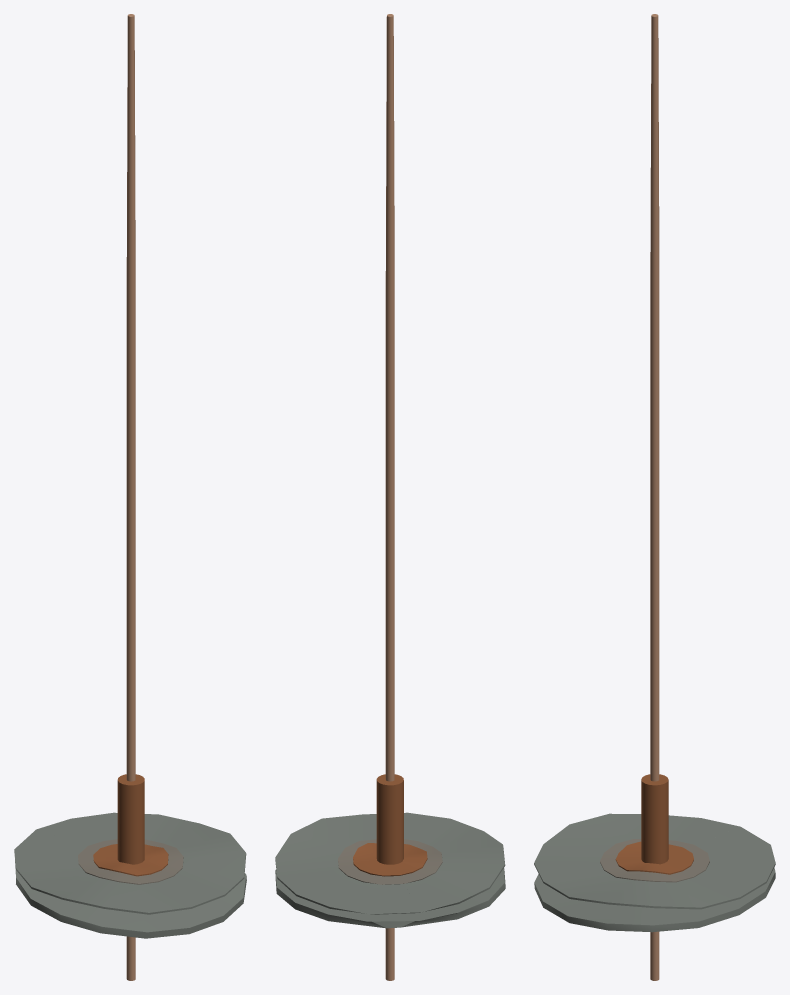
The model's file is fuseau.fbx.
3 renders of one model, left to right at view 1: azimuth 30°, elevation 25°; view 2: azimuth 150°, elevation 25°; view 3: azimuth 270°, elevation 25°, orthographic.
Parts seen in each view (by area): view 1: Disc_2_2, Cylinder_2, Disc, Cylinder, Disc_1, Disc_2; view 2: Disc_2_2, Cylinder_2, Disc, Cylinder, Disc_1, Disc_2; view 3: Disc_2_2, Cylinder_2, Disc, Cylinder, Disc_1, Disc_2.
Boxes of the visible parts, left/top/right/bottom form: Disc_2_2: left=14, top=812, right=246, bottom=914; Cylinder_2: left=126, top=14, right=135, bottom=980; Disc: left=15, top=860, right=246, bottom=938; Cylinder: left=117, top=774, right=144, bottom=864; Disc_1: left=78, top=839, right=183, bottom=884; Disc_2: left=93, top=844, right=168, bottom=876; Disc_2_2: left=275, top=812, right=505, bottom=914; Cylinder_2: left=385, top=14, right=394, bottom=980; Disc: left=275, top=868, right=505, bottom=928; Cylinder: left=376, top=774, right=403, bottom=864; Disc_1: left=338, top=839, right=442, bottom=884; Disc_2: left=353, top=843, right=427, bottom=876; Disc_2_2: left=534, top=813, right=775, bottom=909; Cylinder_2: left=650, top=14, right=659, bottom=980; Disc: left=534, top=867, right=775, bottom=932; Cylinder: left=641, top=774, right=668, bottom=864; Disc_1: left=600, top=839, right=709, bottom=882; Disc_2: left=615, top=841, right=693, bottom=874.
Bounding box in the file's own units: 361 × 1664 × 378.
